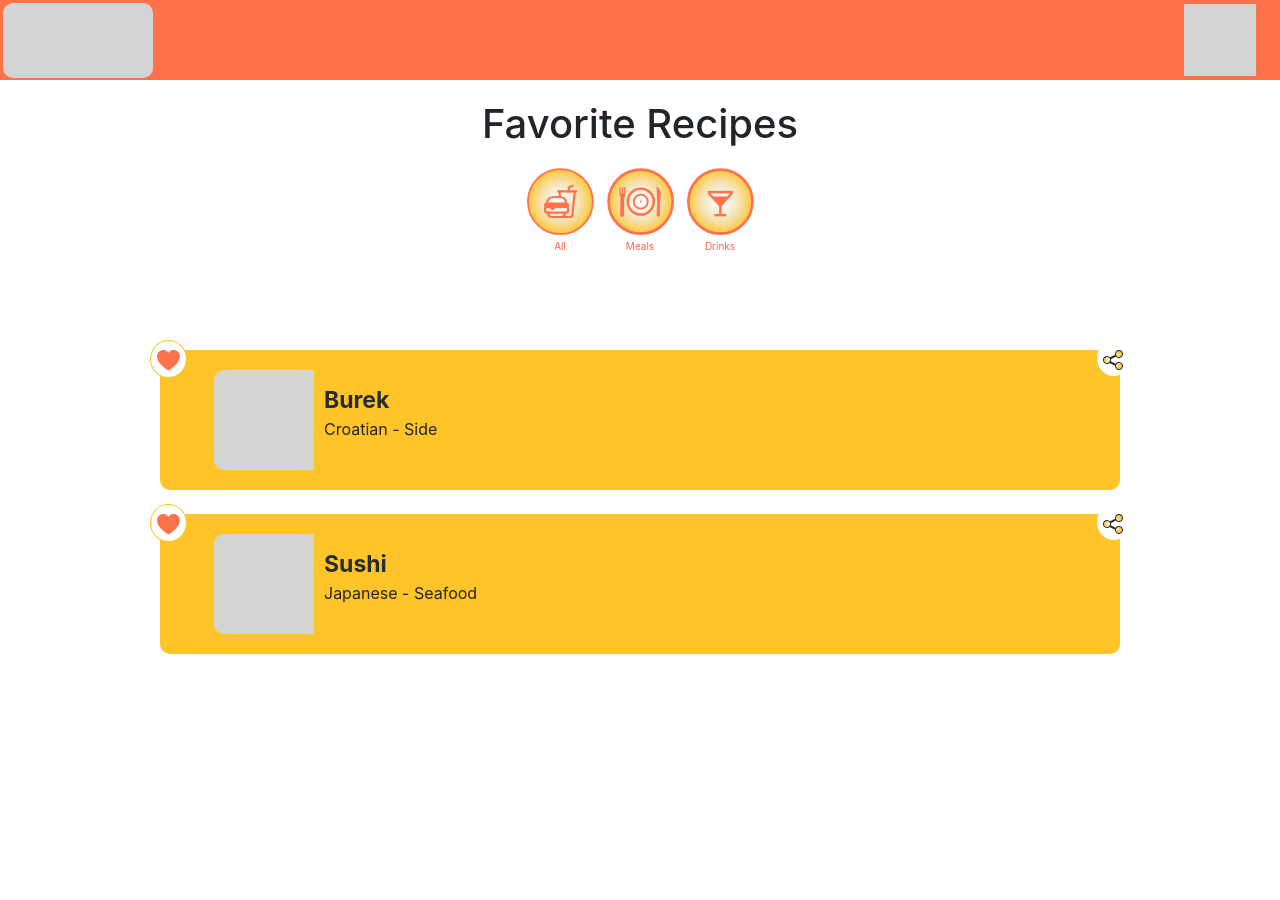
Test: Testes para o componente FavoriteRecipes › Verifica se é compartilhado
The image size is (1280, 900).
What coordinates should you click on to do the following:
click the button with test id "1-horizontal-share-btn"
I would click on:
 (1114, 522)
Its box is [1097,504,1130,540].
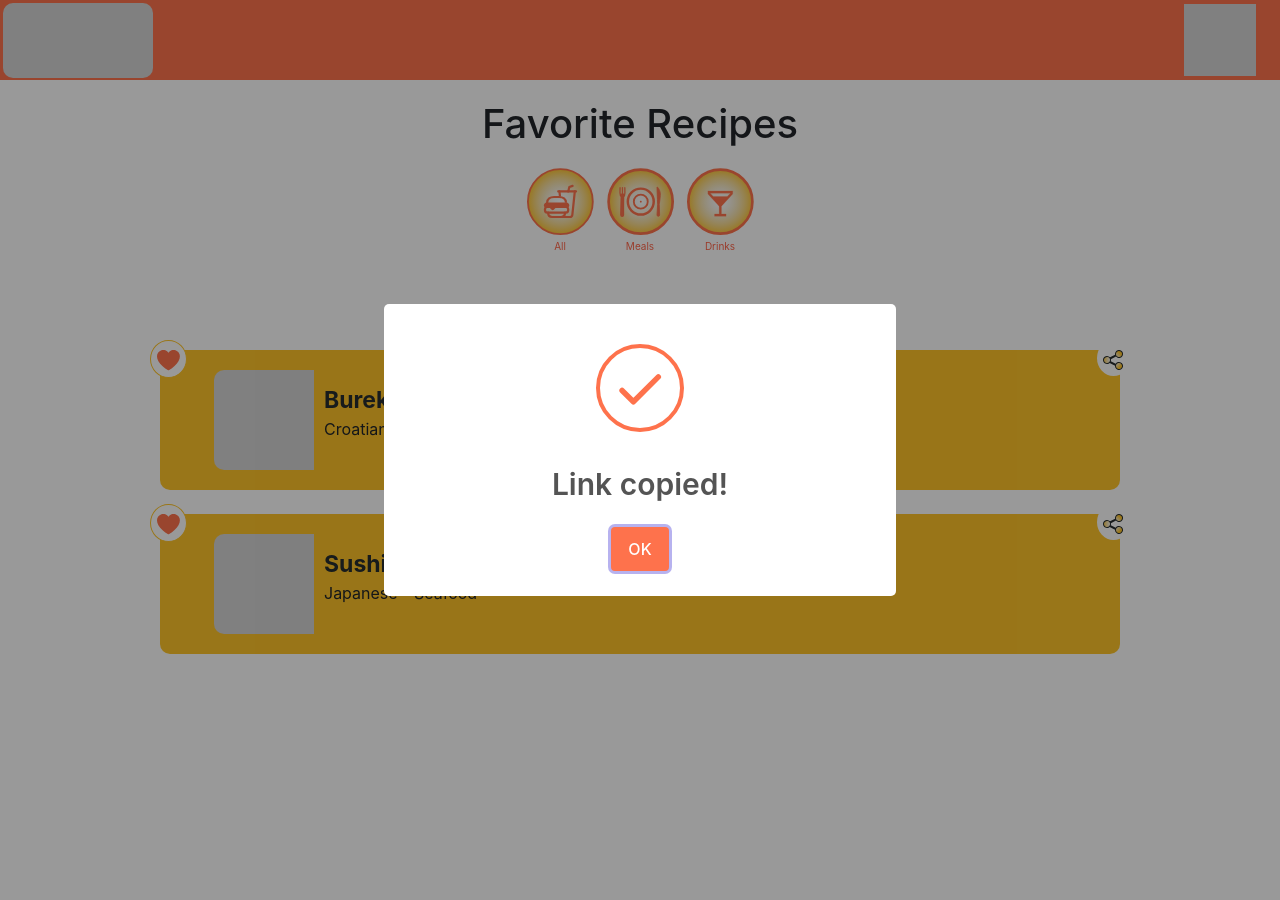
Check: the heading "Link copied!" is shown, box [552,466,728,502]
